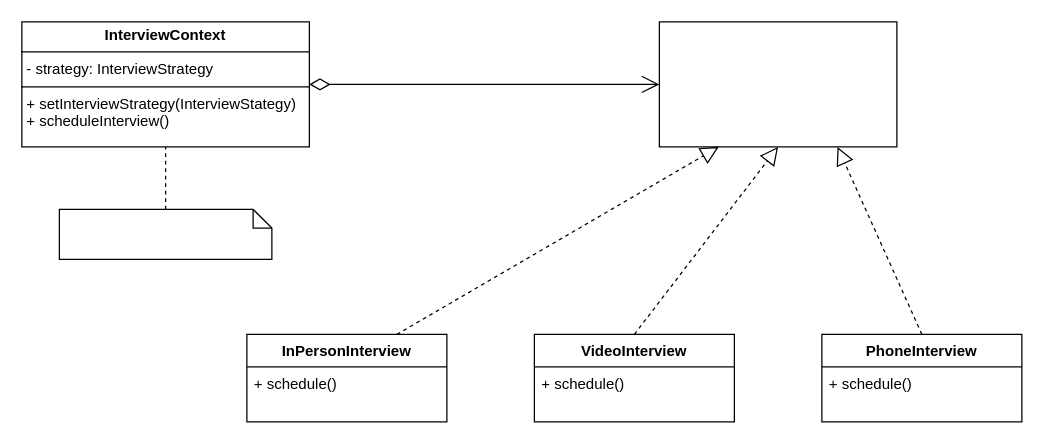
This 1044x448 diagram has some shape labels left out. The shapes that lost their labels are listed below. From the top down, each one's centre as x and y in pixels, then its label:
(777,84): <<Interface>> InterviewStrategy + schedule(): void
(165,233): interview=strategy.schedule()
